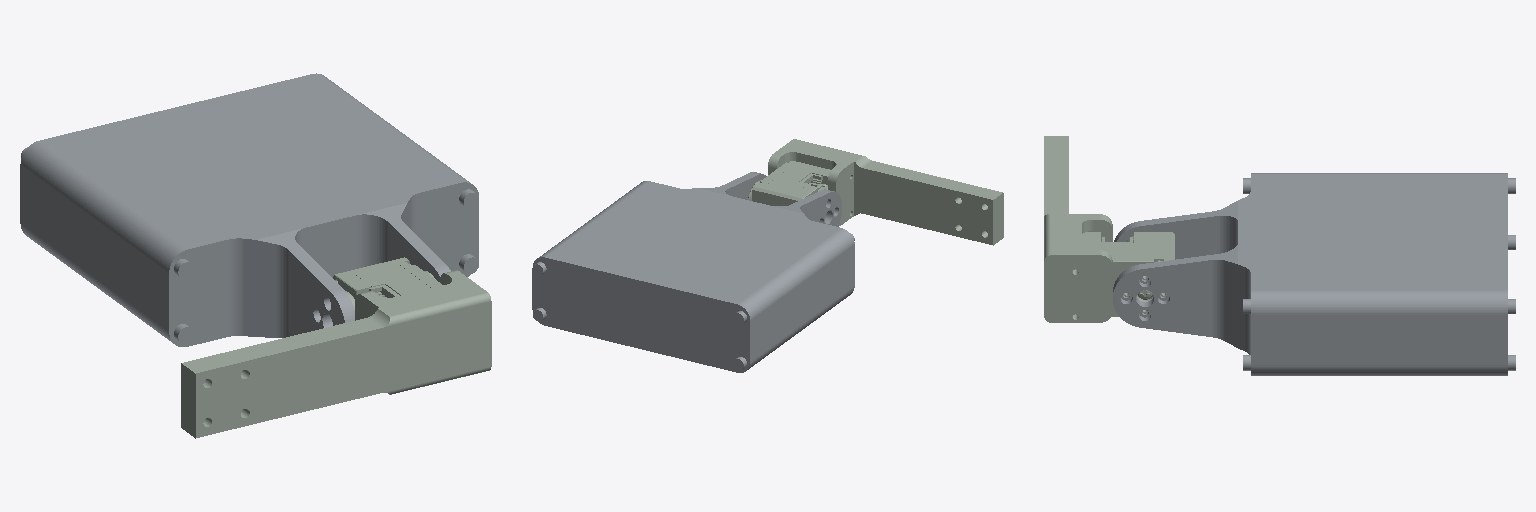
The robot description file, URDF, robot "sysID_XC330":
<robot name="sysID_XC330">
  <mujoco>
    <compiler strippath="false" balanceinertia="true" discardvisual="false" />
  </mujoco>
  <link name="xc330">
    <visual>
      <origin xyz="0 0 0" rpy="0 -0 0" />
      <geometry>
        <mesh filename="../assemblies/sysID_XC330/meshes/xc330_visual.stl" />
      </geometry>
      <material name="xc330_material">
        <color rgba="0.66291664961446195026 0.70549986616795368199 0.66729895251604331996 1.0" />
      </material>
    </visual>
    <inertial>
      <origin xyz="0.067523785979360526066 0.0091047662315145976714 0.0040548453010051110912" rpy="0 0 0" />
      <mass value="0.037349999993091763384" />
      <inertia ixx="7.1551666942363893246e-06" ixy="-4.4272140296375444478e-06" ixz="3.88600385203059254e-07" iyy="1.6392155116973046642e-05" iyz="3.364647266219376747e-07" izz="2.0987261801740487668e-05" />
    </inertial>
  </link>

  <link name="arm_330">
    <visual>
      <origin xyz="0 0 0" rpy="0 -0 0" />
      <geometry>
        <mesh filename="../assemblies/sysID_XC330/meshes/arm_330_visual.stl" />
      </geometry>
      <material name="arm_330_material">
        <color rgba="0.63059283987567626983 0.65298952457695413898 0.67418901807298270423 1.0" />
      </material>
    </visual>
    <inertial>
      <origin xyz="0.077771581880464596415 1.3637865613089529684e-05 -0.014499999999999879305" rpy="0 0 0" />
      <mass value="0.25549999999999994937" />
      <inertia ixx="0.00024322303213941348448" ixy="9.3950332757091710781e-08" ixz="5.9314470448743356968e-20" iyy="0.00041031606159673929875" iyz="3.8999390614646317898e-16" izz="0.00022144160734724412142" />
    </inertial>
  </link>

  <joint name="joint_0" type="revolute">
    <origin xyz="0.089400000000000034994 0.021949857927858890116 0.0034193959459662072627" rpy="1.57079632679489678 -2.3592239273285399858e-16 1.5707963267948961139" />
    <parent link="xc330" />
    <child link="arm_330" />
    <axis xyz="0 0 1" />
    <limit effort="1" velocity="20" lower="-1.570796326794896558" upper="1.570796326794896558" />
    <joint_properties friction="0.0" />
  </joint>


</robot>

--- Facts derived from the render (not from the file) ---
3 views of the same robot in one strip: view 1: azimuth 30°, elevation 25°; view 2: azimuth 150°, elevation 25°; view 3: azimuth 270°, elevation 25° (orthographic).
Model sysID_XC330 with 2 links and 1 joints (1 revolute), rooted at xc330, posed every joint at zero.
Visible links, largest first — view 1: arm_330, xc330; view 2: arm_330, xc330; view 3: arm_330, xc330.
Link boxes in pixels (x1,y1,x2,y2): arm_330: (20, 73, 478, 346); xc330: (181, 257, 491, 438); arm_330: (532, 172, 854, 372); xc330: (748, 139, 1003, 245); arm_330: (1113, 173, 1515, 375); xc330: (1044, 136, 1174, 322).
Size in the robot's own frame: 0.1299 by 0.152 by 0.03 metres.
Meshes: 2 distinct files referenced, 2 mesh visuals loaded (2 binary STL).